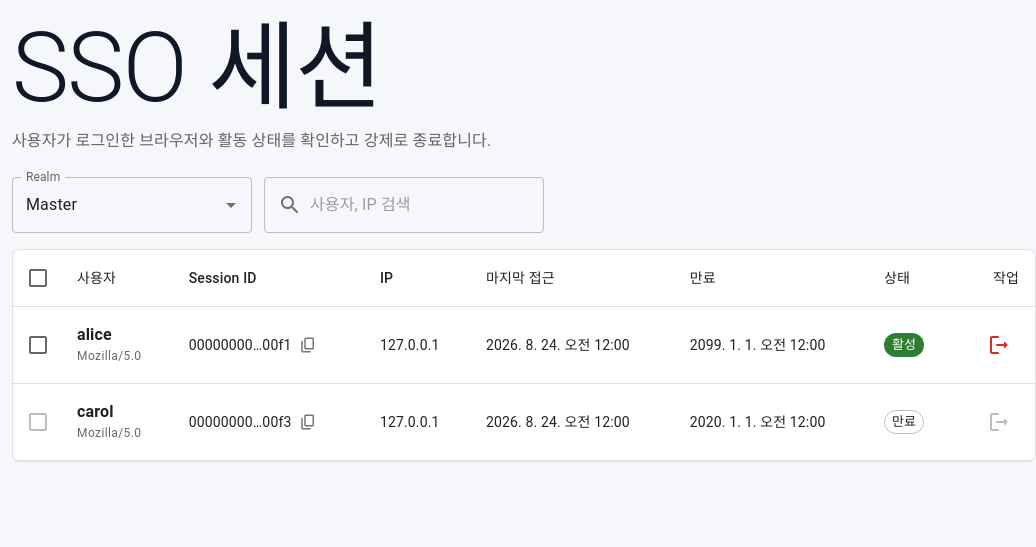
Test: 이미 끝난 세션은 고를 수 없고 전체 선택에도 들지 않는다
Expected: the text "carol" is shown, [77,402,114,421]
Expected: the checkbox named "carol 세션 선택" is disabled, [26,410,50,434]
Step 1. Click the checkbox named "표시된 활성 세션 모두 선택" → [38, 278], box [26,266,50,290]
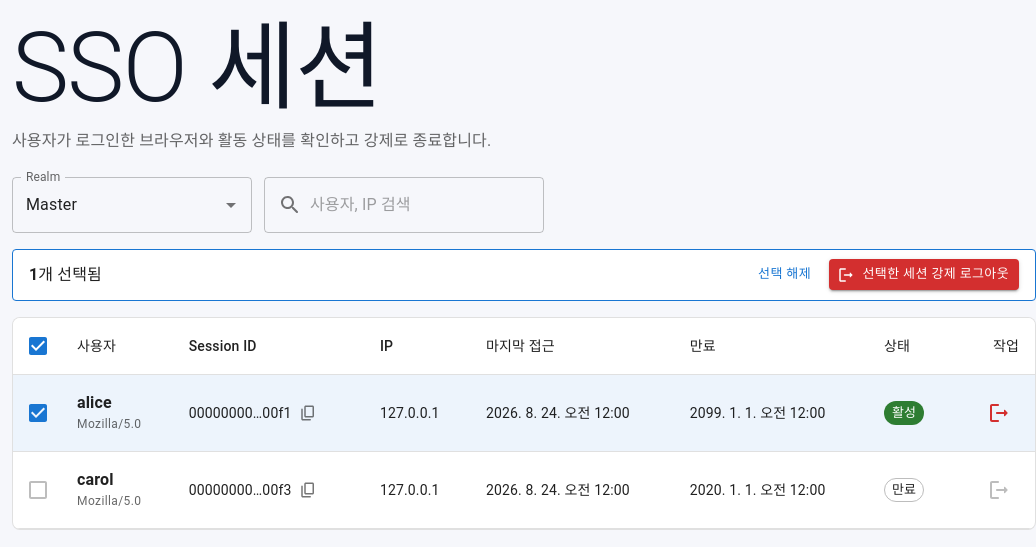
Result: the text "1개 선택됨" is shown at [29,263,102,287]
